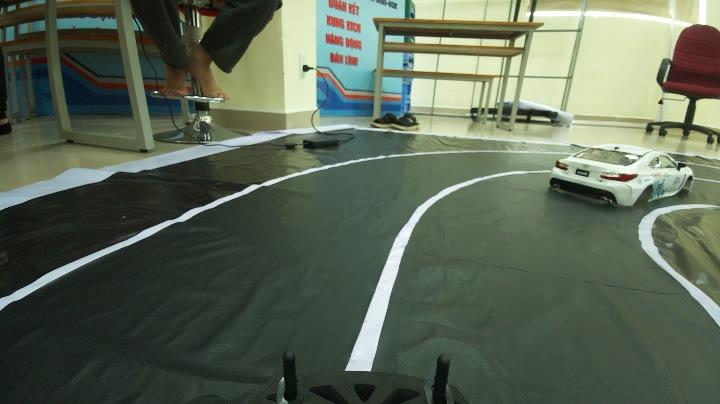car: (539, 127, 701, 211)
